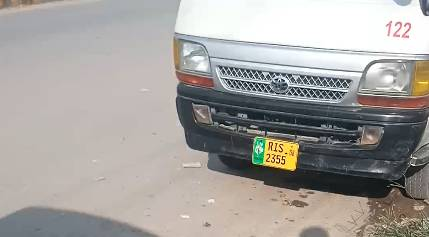number_plate: (251, 135, 302, 173)
